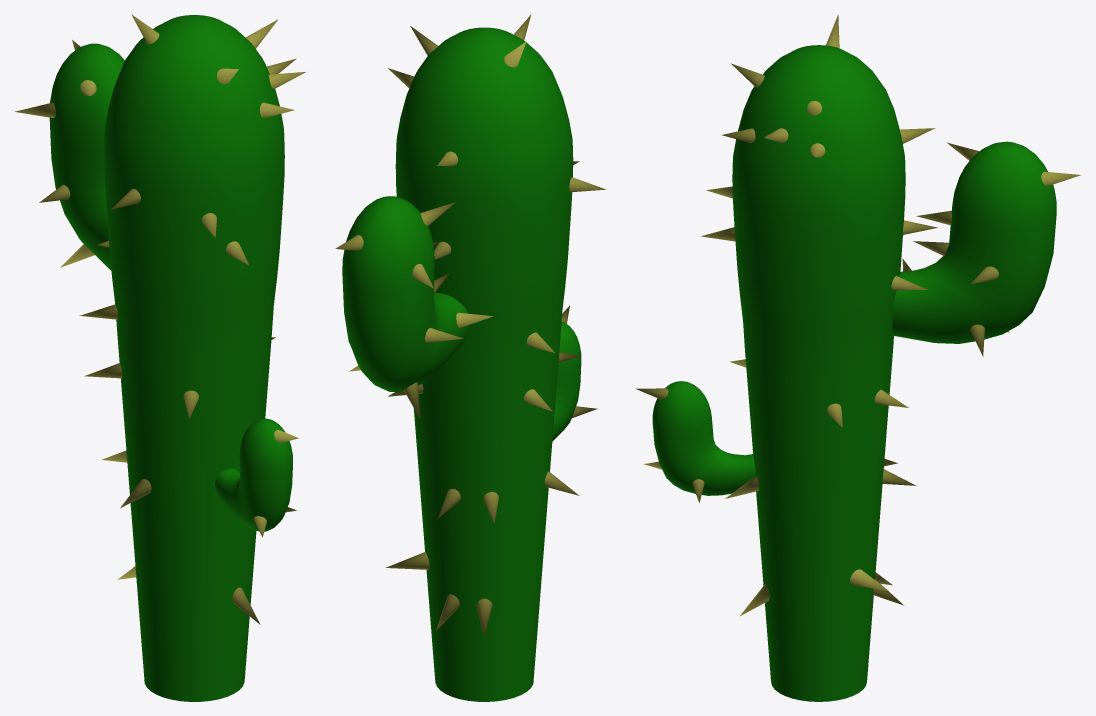
The model's file is cactus_3.fbx.
3 renders of one model, left to right at view 1: azimuth 30°, elevation 25°; view 2: azimuth 150°, elevation 25°; view 3: azimuth 270°, elevation 25°, orthographic. The views are drawn at different scales.
Parts seen in each view (by area): view 1: cactus_3; view 2: cactus_3; view 3: cactus_3.
Boxes of the visible parts, x1,y1,x2,y2 form: cactus_3: [14, 14, 305, 701]; cactus_3: [335, 14, 605, 701]; cactus_3: [635, 15, 1080, 701].
Size of the model in its own units: 281 by 553 by 879.
